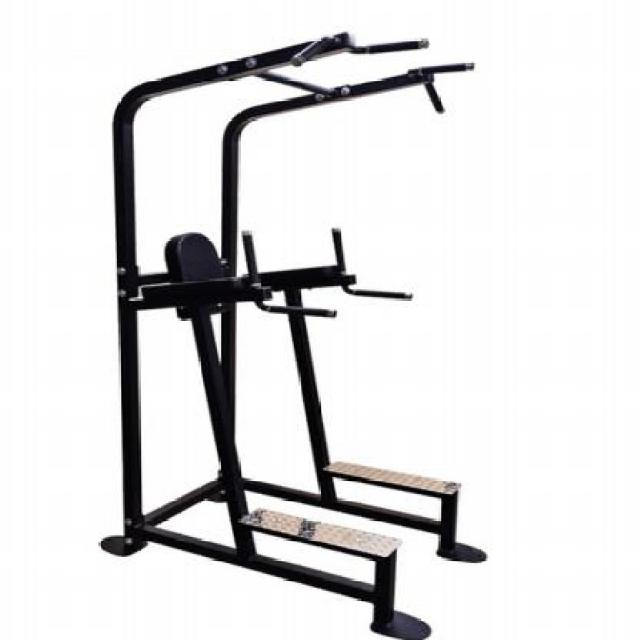chinning dipping: (106, 26, 485, 639)
